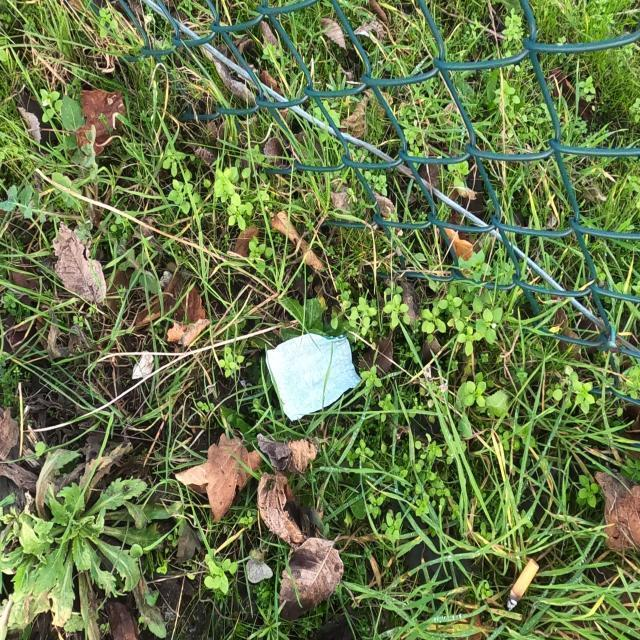Plastic: (264, 331, 364, 423)
